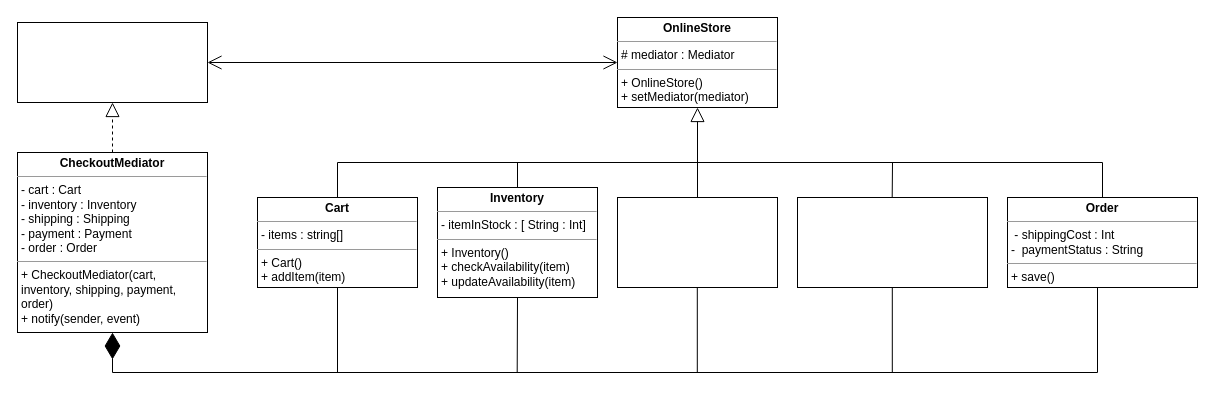
This 1215x416 diagram has some shape labels left out. The box of each missing label's shape, as (x1, y1, x2, y2) in pixels:
<<Interface>> Mediator + notify(sender:OnlineStore, event : String): (16, 22, 208, 102)
Payment + Payment() + processPayment(paymentInfo): (796, 196, 988, 288)
Shipping + Shipping() + calculateShipping(item): (616, 196, 778, 288)
